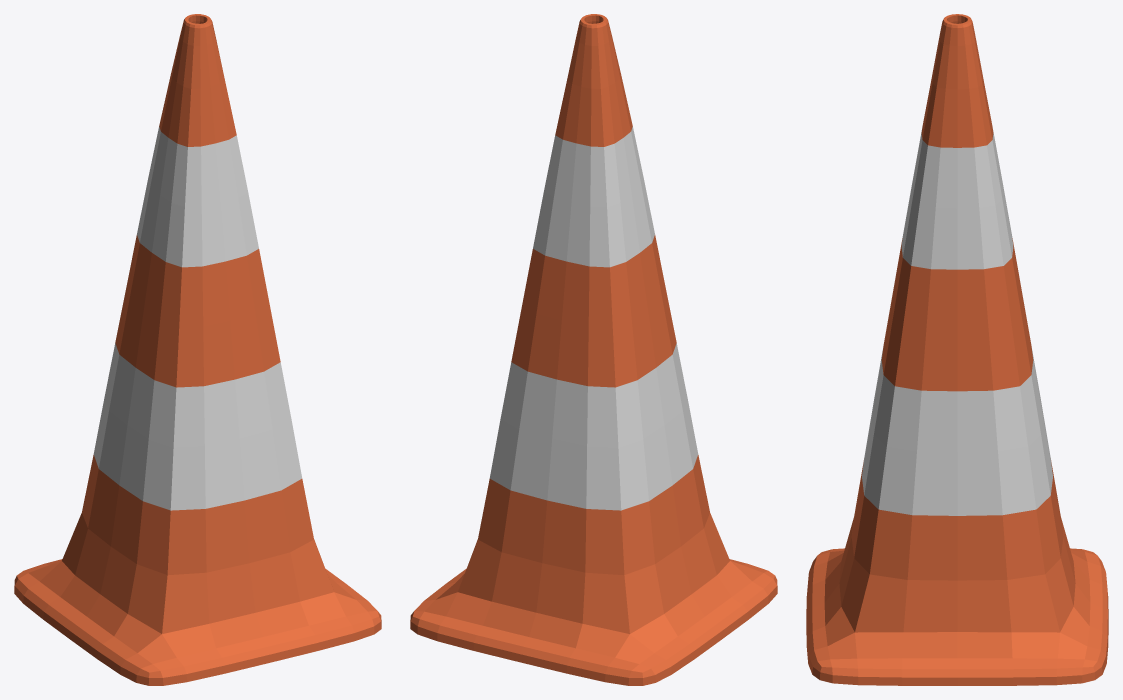
The model's file is plot_grand.fbx.
3 views of the same model, side by side, from view 1: azimuth 30°, elevation 25°; view 2: azimuth 150°, elevation 25°; view 3: azimuth 270°, elevation 25° (orthographic). The views are drawn at different scales.
Parts seen in each view (by area): view 1: Plot_grand; view 2: Plot_grand; view 3: Plot_grand.
Part boxes in pixels (box(x1,y1,x2,y2)): Plot_grand: box(14, 14, 381, 685); Plot_grand: box(410, 14, 777, 685); Plot_grand: box(806, 14, 1108, 685).
Size of the model in its own units: 34 by 74.78 by 34.
